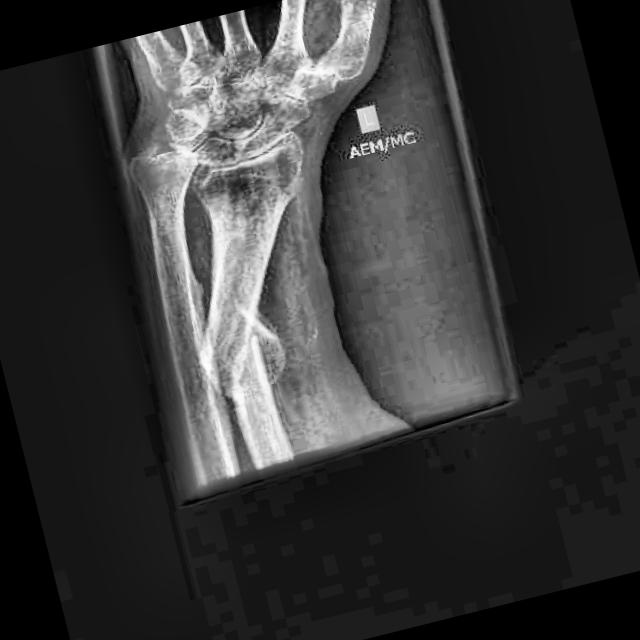forearm fracture: (180, 266, 294, 418)
